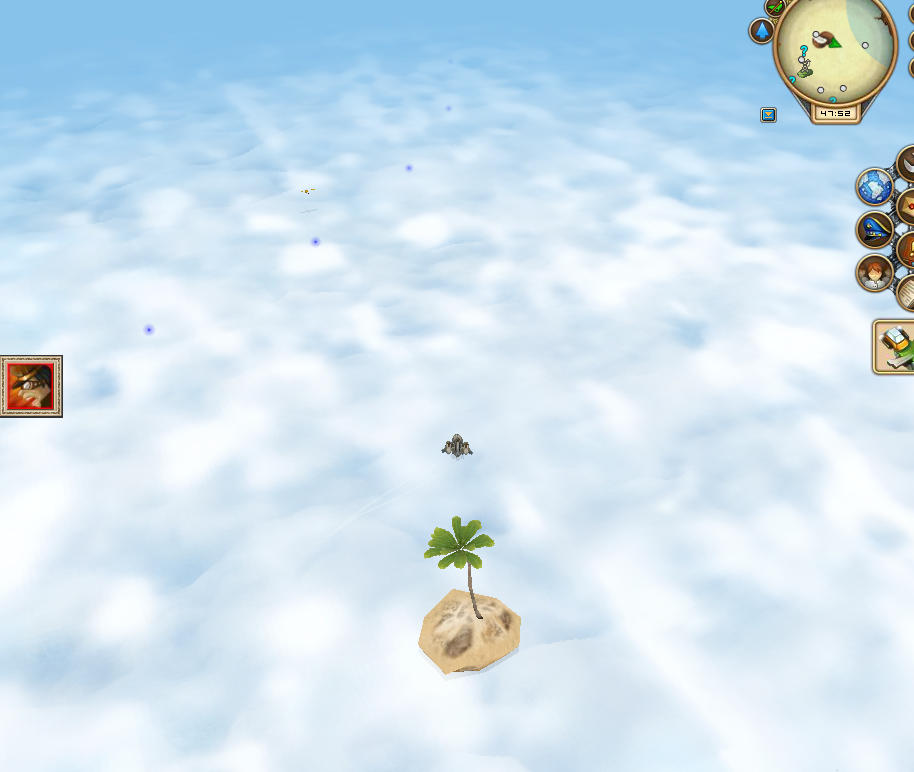palm: (403, 514, 531, 681)
